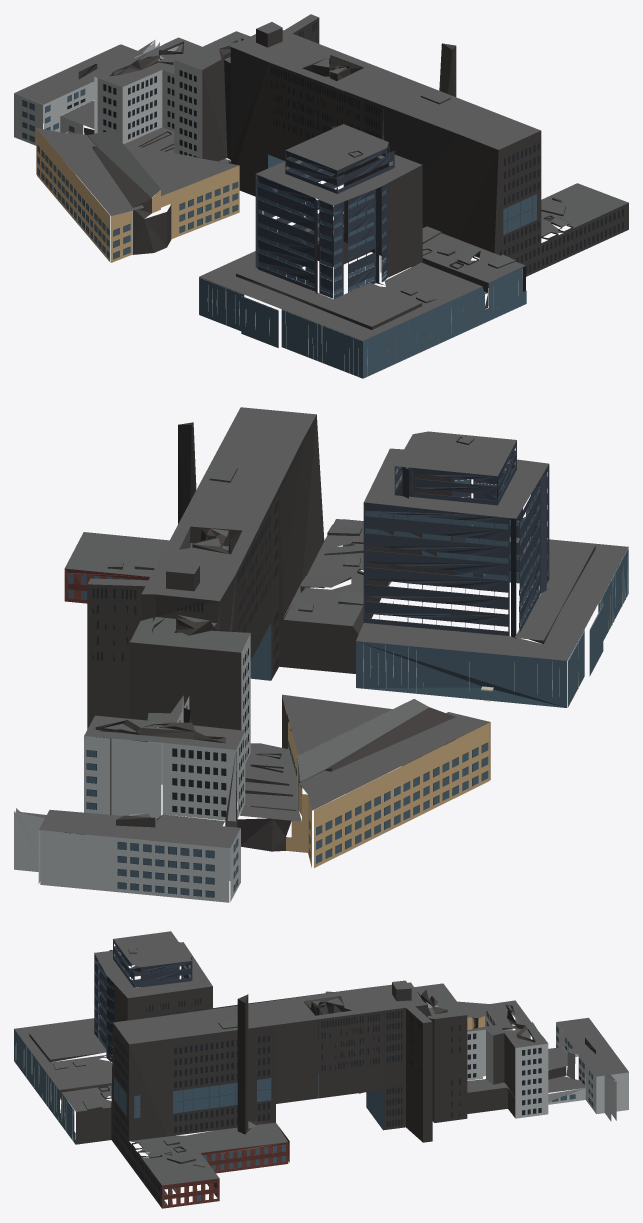
The model's file is roeterseiland-rec-a.lod1.glb.
3 views of the same model, one above another, from view 1: azimuth 30°, elevation 25°; view 2: azimuth 150°, elevation 25°; view 3: azimuth 270°, elevation 25° (orthographic). The views are drawn at different scales.
Parts seen in each view (by area): view 1: roeterseiland-rec-a; view 2: roeterseiland-rec-a; view 3: roeterseiland-rec-a.
Part boxes in pixels (x1,y1,x2,y2): roeterseiland-rec-a: (14,14,628,378); roeterseiland-rec-a: (14,407,628,902); roeterseiland-rec-a: (14,931,628,1208).
Bounding box in the file's own units: 143 × 59.23 × 210.
